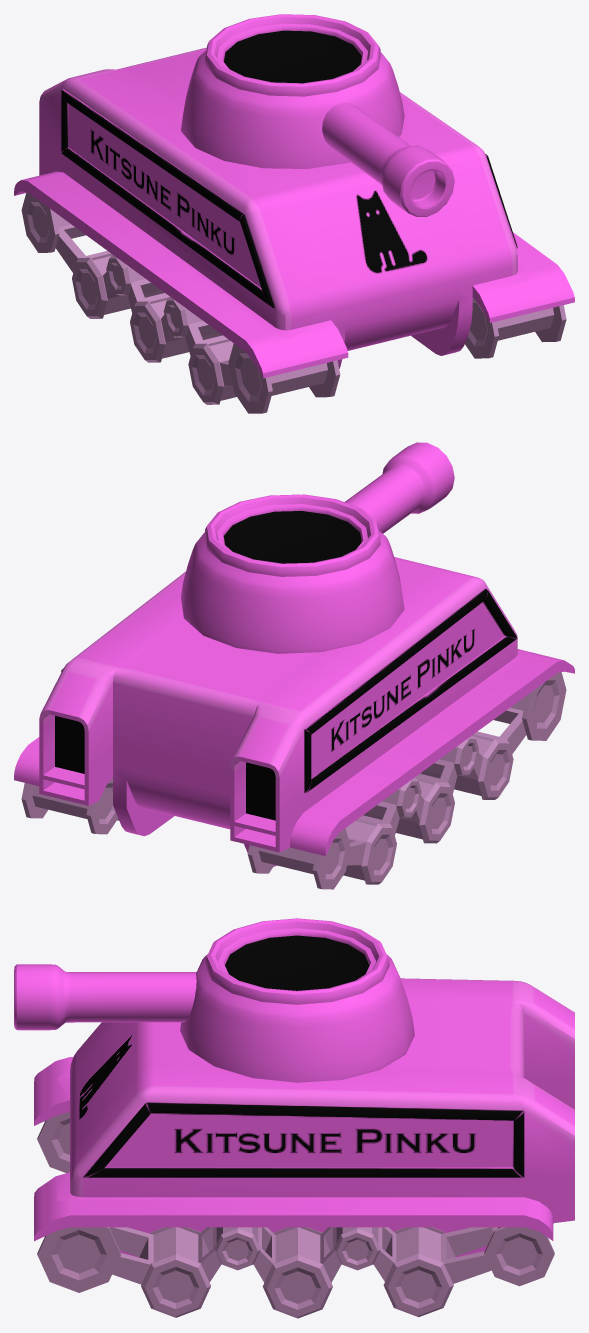
The model's file is Tank_Chassis.fbx.
The picture shows the model from 3 angles, top to bottom: view 1: azimuth 30°, elevation 25°; view 2: azimuth 150°, elevation 25°; view 3: azimuth 270°, elevation 25°; orthographic projection. The views are drawn at different scales.
Visible parts, largest first — view 1: Tank_Chassis, Tank_Barrel; view 2: Tank_Chassis, Tank_Barrel; view 3: Tank_Chassis, Tank_Barrel.
Part boxes in pixels (left/top/right/bottom): Tank_Chassis: left=14, top=14, right=574, bottom=413; Tank_Barrel: left=322, top=103, right=454, bottom=216; Tank_Chassis: left=14, top=494, right=574, bottom=889; Tank_Barrel: left=344, top=442, right=454, bottom=533; Tank_Chassis: left=34, top=918, right=574, bottom=1318; Tank_Barrel: left=14, top=964, right=196, bottom=1030.
Bounding box in the file's own units: 2493 × 2130 × 3730.
3 materials, 1 textured.
